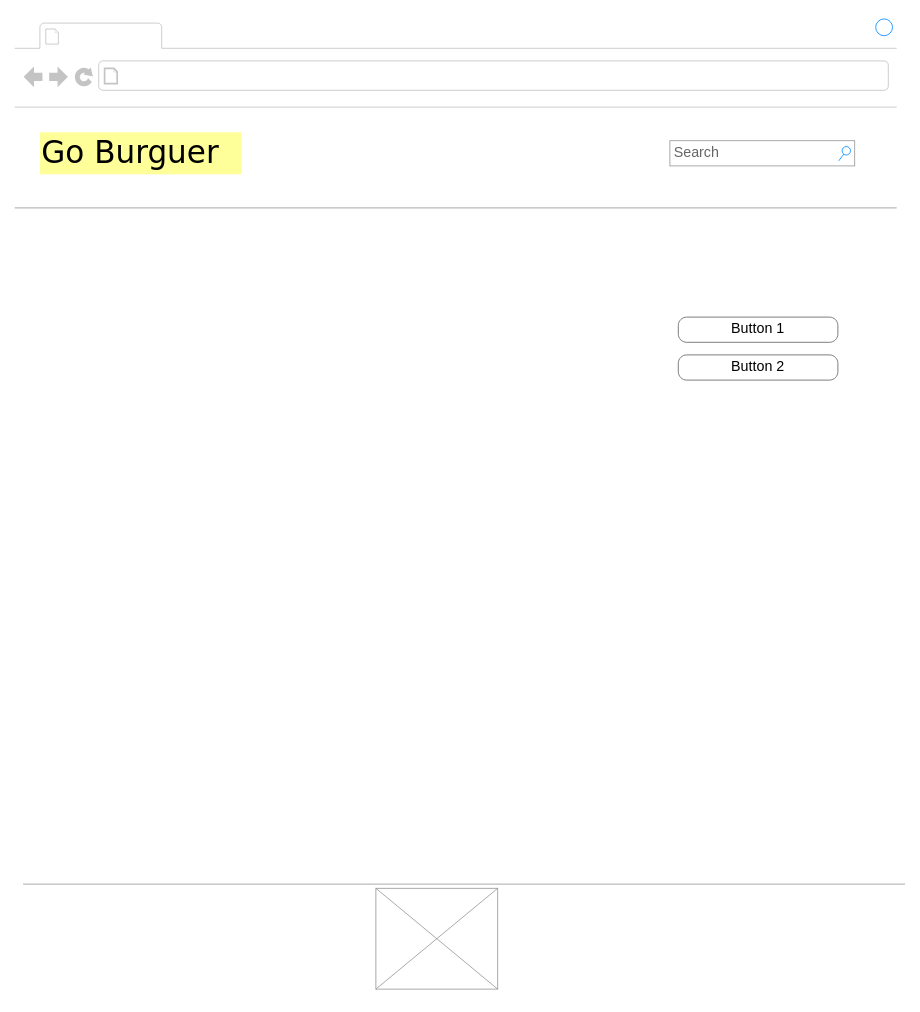
Some shapes in this 920 by 1012 pixel diagram are drawn without their labels. Each missing label, with the centre of its shape:
"https://www.default.com" goes at (228,75).
"Page 1" goes at (111,35).
